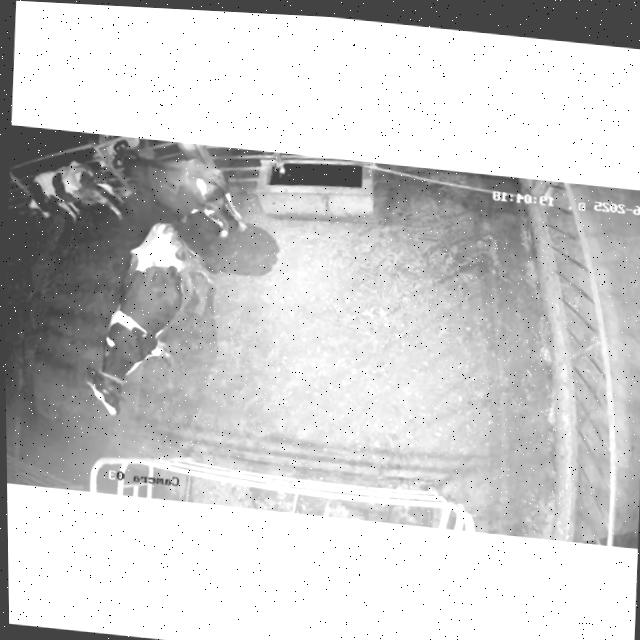stand: (75, 212, 235, 441), (103, 138, 253, 234), (23, 147, 130, 227)
